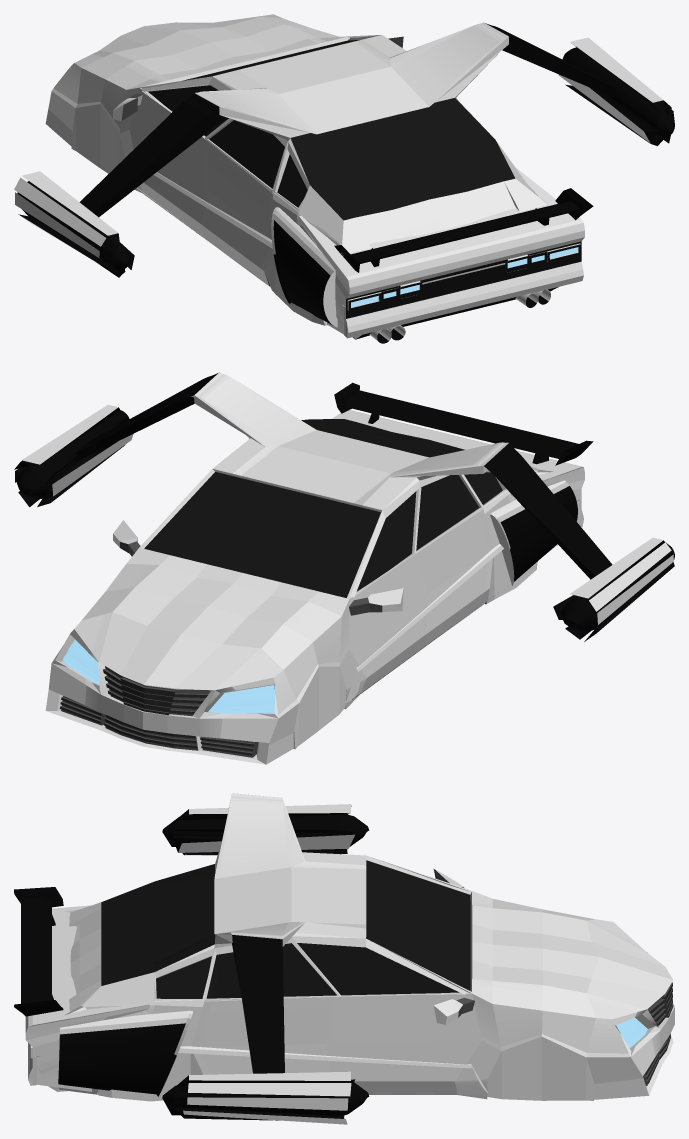
File: carUpdated.glb
3 views of the same model, one above another, from view 1: azimuth 30°, elevation 25°; view 2: azimuth 150°, elevation 25°; view 3: azimuth 270°, elevation 25° (orthographic).
Visible parts, largest first — view 1: Cube; view 2: Cube; view 3: Cube.
Part boxes in pixels (bbox=[...]): Cube: bbox=[14, 14, 674, 343]; Cube: bbox=[14, 372, 674, 764]; Cube: bbox=[14, 793, 674, 1124].
Bounding box in the file's own units: 5.47 × 1.68 × 5.36.
